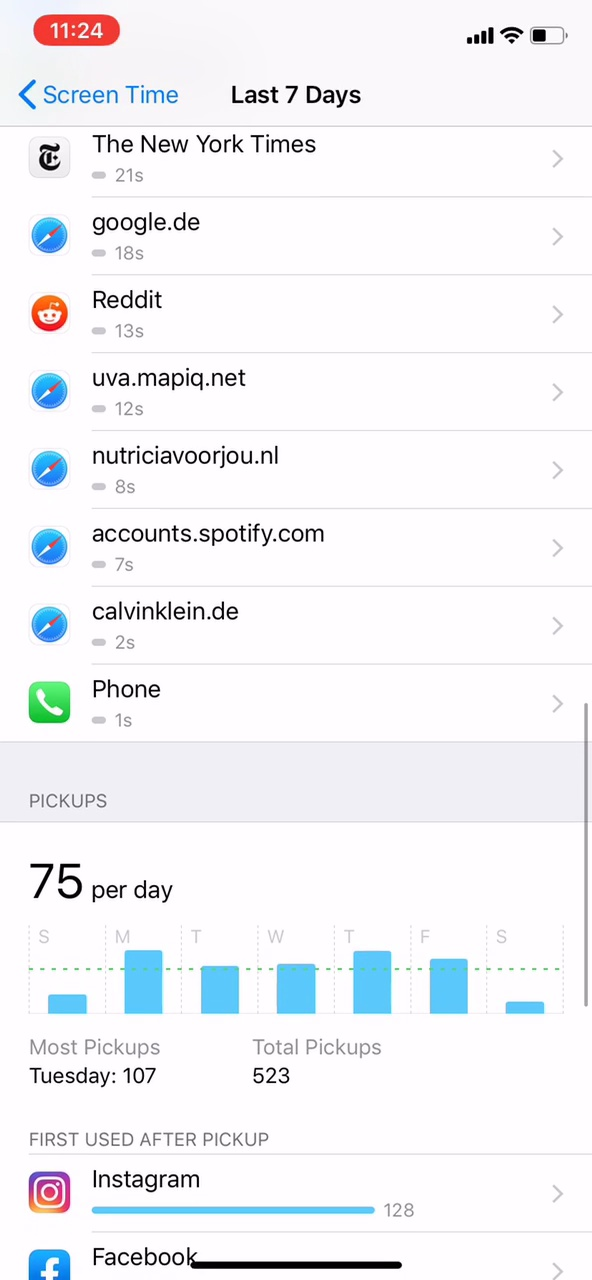pick_app: (20, 1161, 465, 1228)
pick_over: (20, 1022, 407, 1099)
week: (215, 75, 384, 114)
